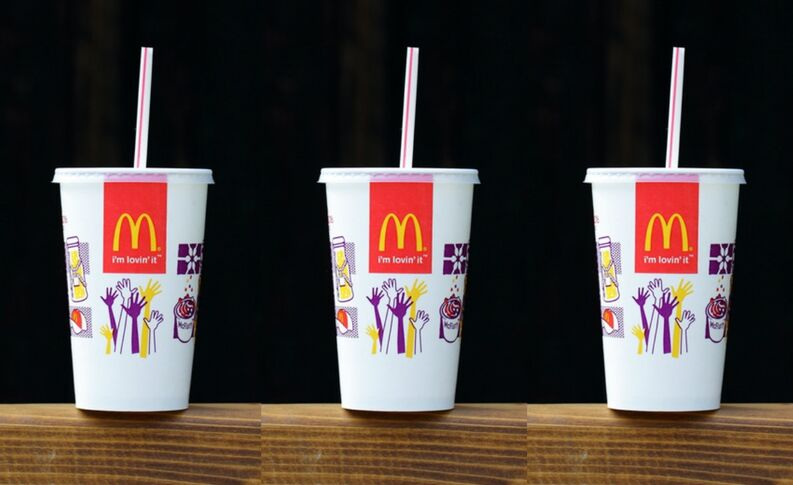mcdonalds: (375, 209, 426, 258), (639, 210, 690, 256), (110, 212, 160, 254)
